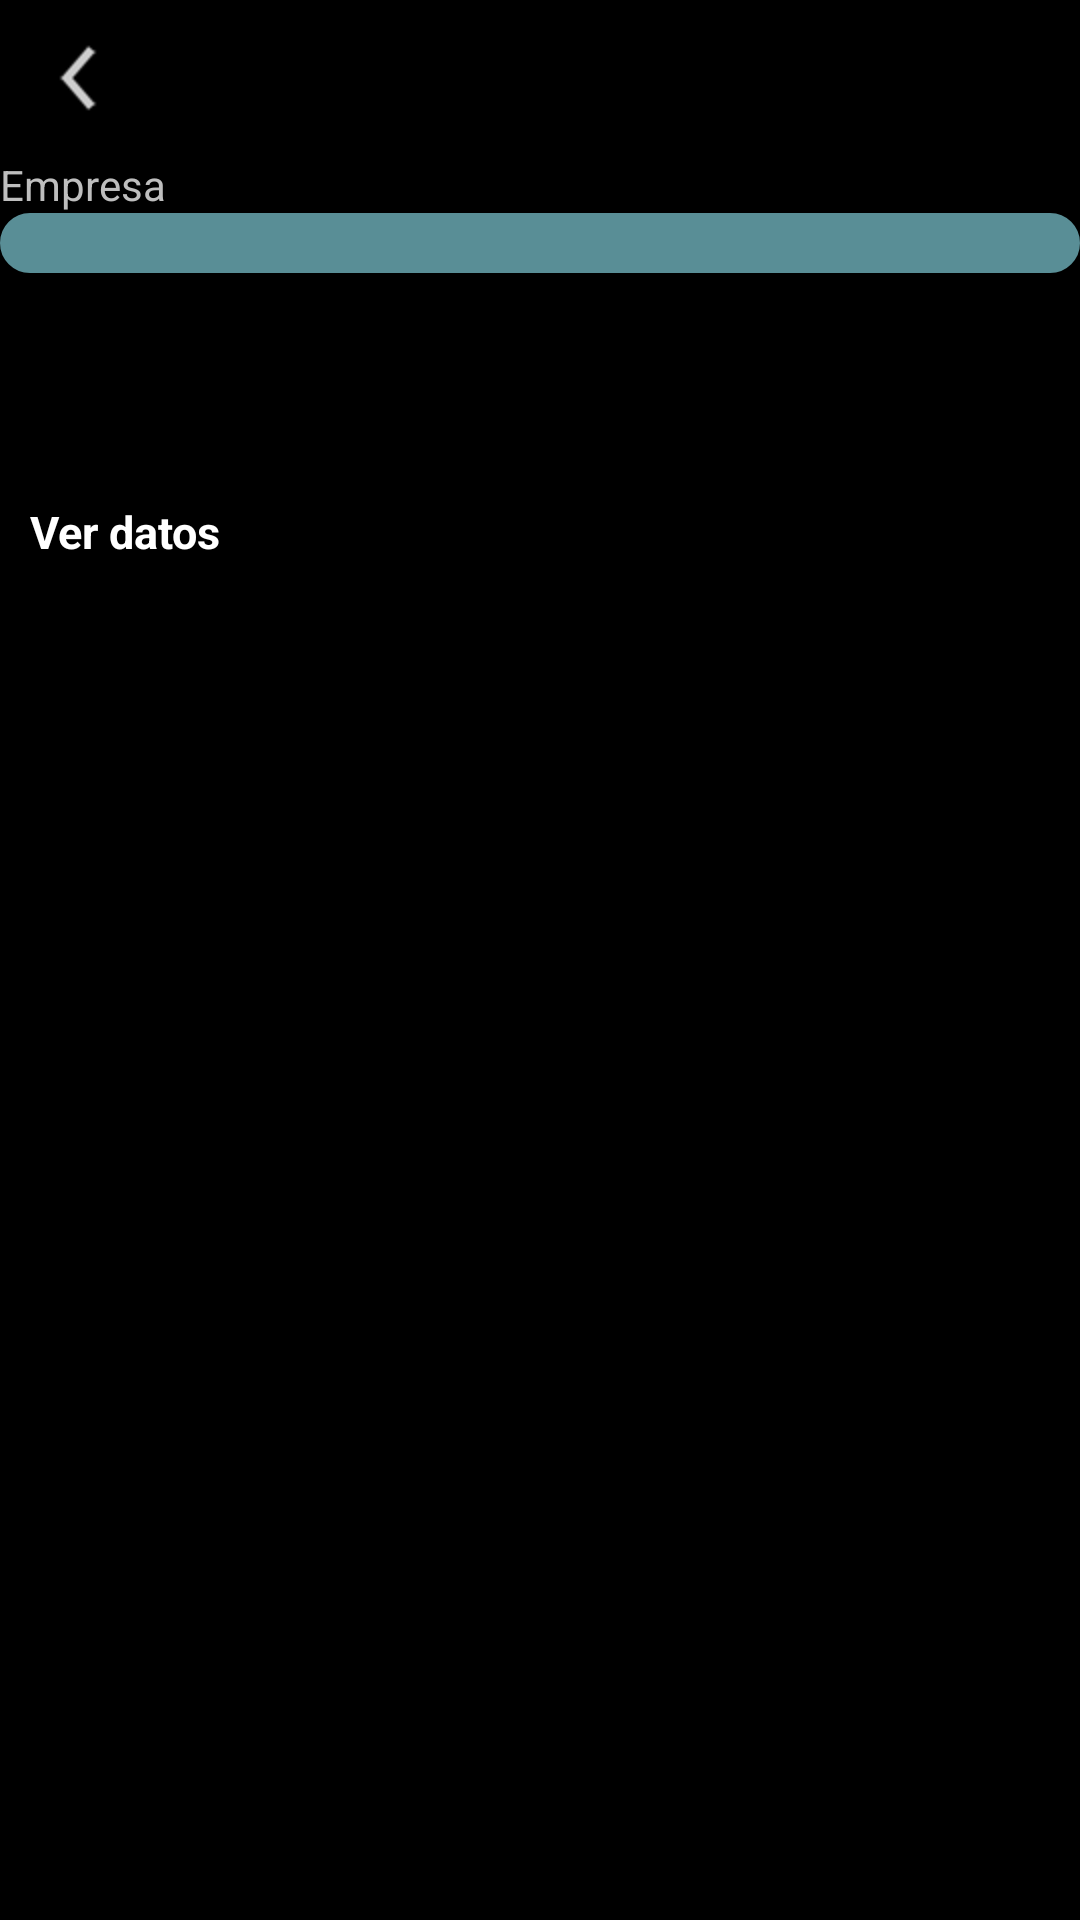

Named icons in this screenshot (1080×1920) and their centers, (x,y):
flecha: (78,78)
